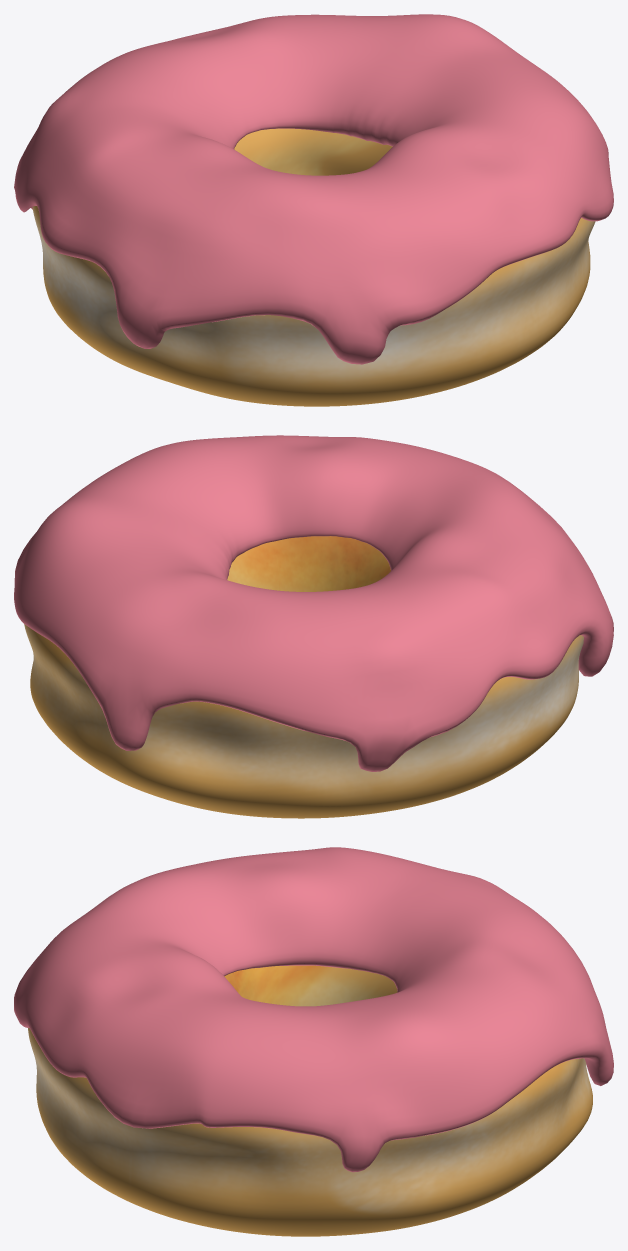
File: donut.glb
3 views of the same model, one above another, from view 1: azimuth 30°, elevation 25°; view 2: azimuth 150°, elevation 25°; view 3: azimuth 270°, elevation 25° (orthographic). The views are drawn at different scales.
Parts seen in each view (by area): view 1: Icing, Donut; view 2: Icing, Donut; view 3: Icing, Donut.
Boxes of the visible parts, x1=… form: Icing: x1=14, y1=14, x2=613, y2=364; Donut: x1=32, y1=128, x2=595, y2=406; Icing: x1=14, y1=435, x2=613, y2=771; Donut: x1=24, y1=536, x2=583, y2=818; Icing: x1=14, y1=847, x2=613, y2=1172; Donut: x1=28, y1=965, x2=592, y2=1236.
Bounding box in the file's own units: 17.54 × 7.01 × 17.77.
Materials: 2 (1 with a texture image).
